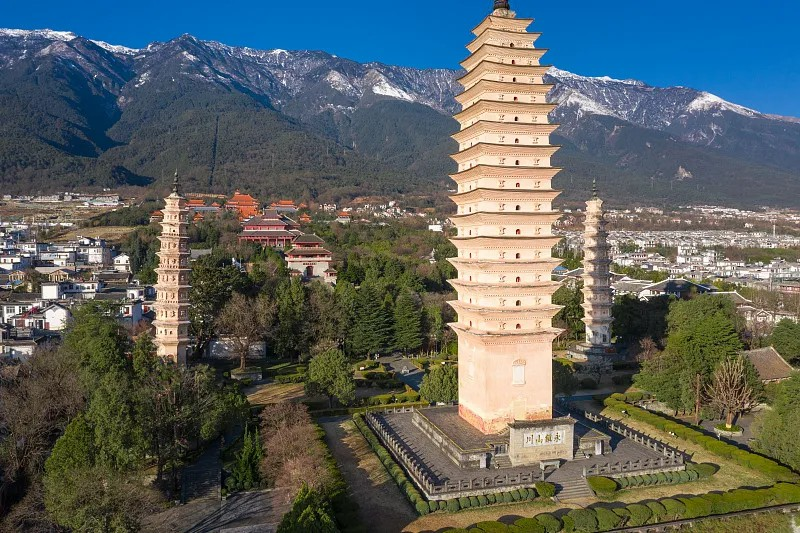ThreePagoda: (447, 1, 567, 434)
